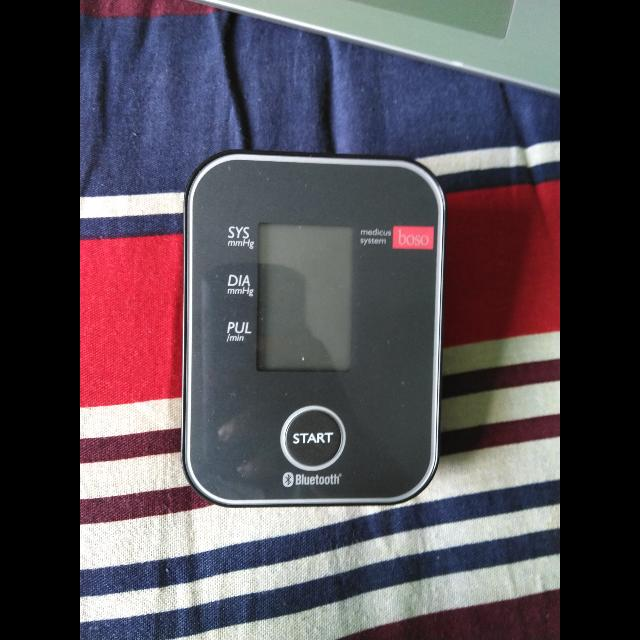Blood-Pressure-Monitor: (167, 140, 465, 516)
